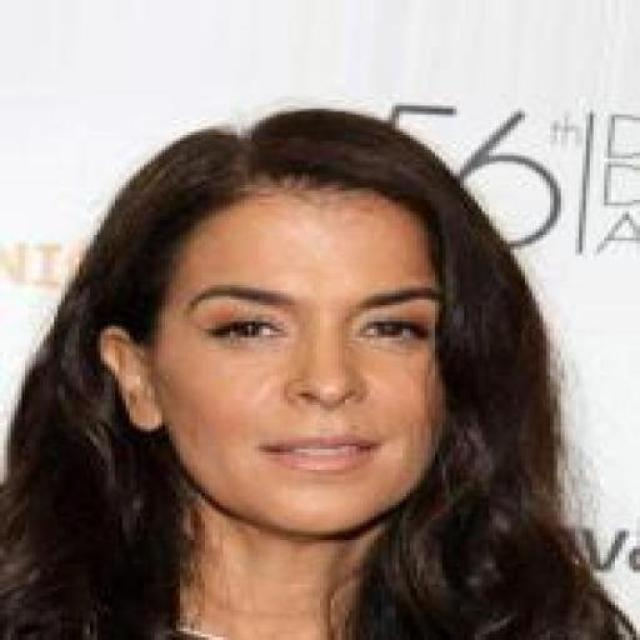bareface: (148, 186, 444, 562)
